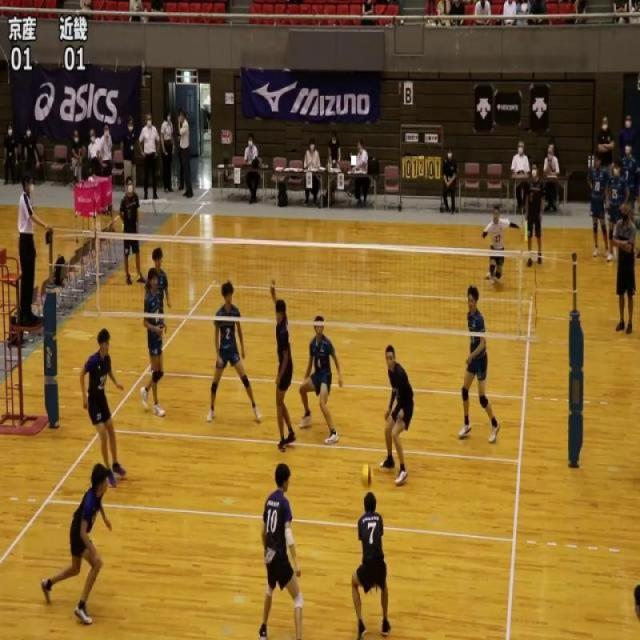volleyball: (360, 462, 375, 490)
